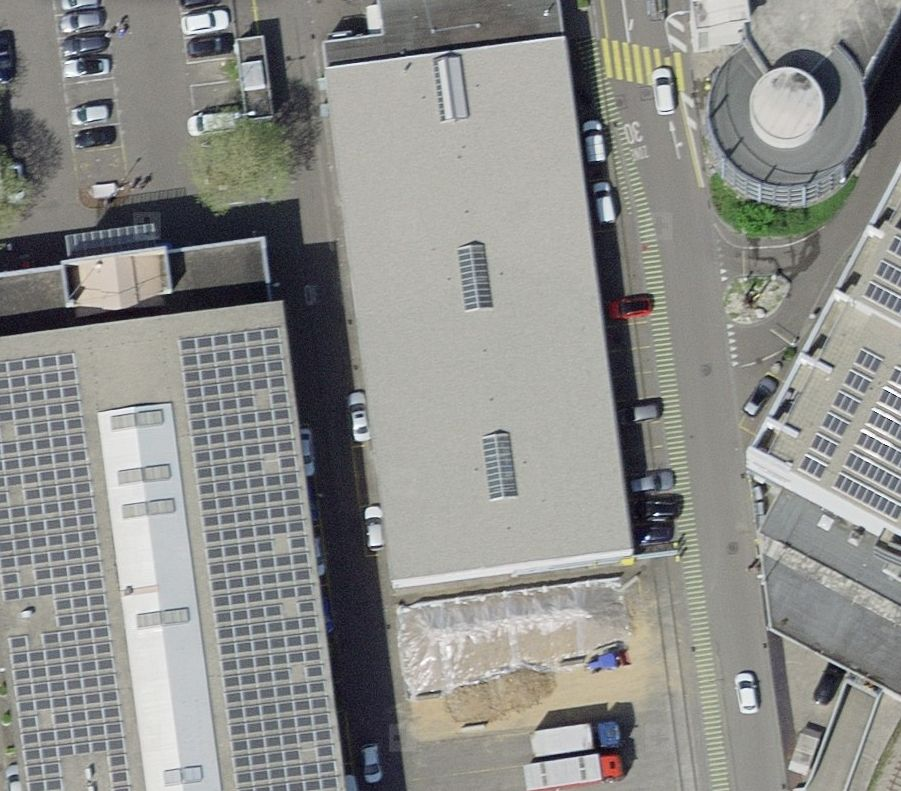solar: (175, 325, 341, 791), (1, 350, 131, 789), (796, 233, 901, 521)
